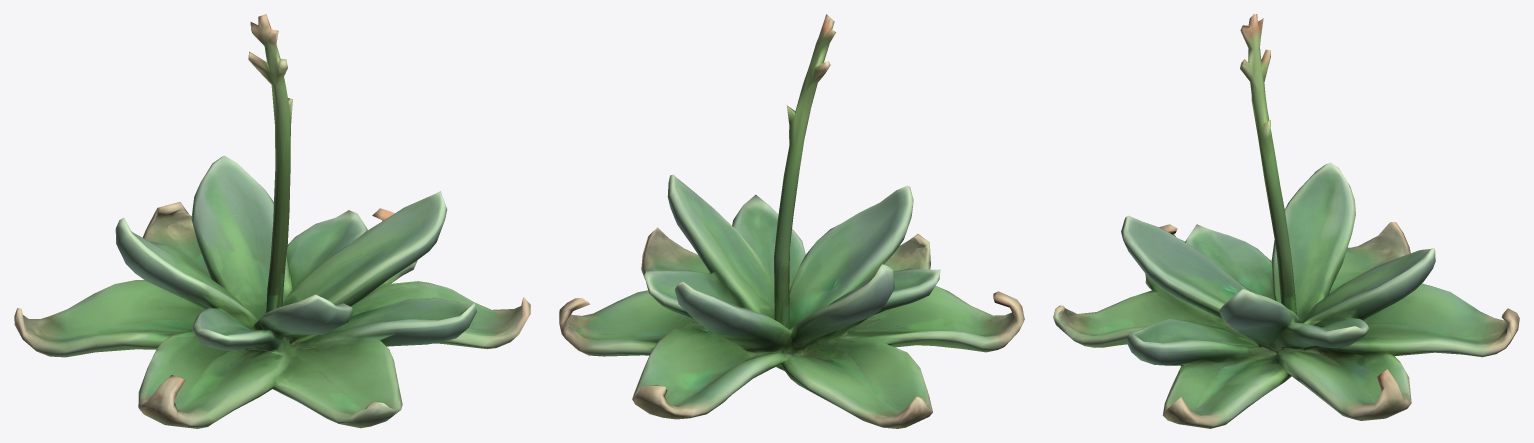
The picture shows the model from 3 angles, left to right: view 1: azimuth 30°, elevation 25°; view 2: azimuth 150°, elevation 25°; view 3: azimuth 270°, elevation 25°; orthographic projection. The views are drawn at different scales.
Parts seen in each view (by area): view 1: Mesh_0; view 2: Mesh_0; view 3: Mesh_0.
Boxes of the visible parts, x1,y1,x2,y2 form: Mesh_0: (14, 14, 530, 428); Mesh_0: (559, 14, 1024, 428); Mesh_0: (1053, 14, 1519, 428).
Bounding box in the file's own units: 1.77 × 1.55 × 1.91.
1 material, 1 textured.
